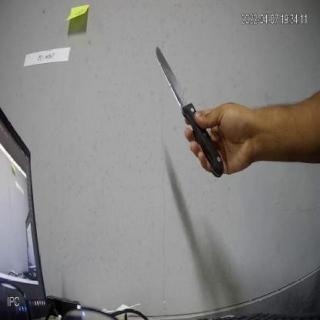knife: (155, 36, 227, 176)
